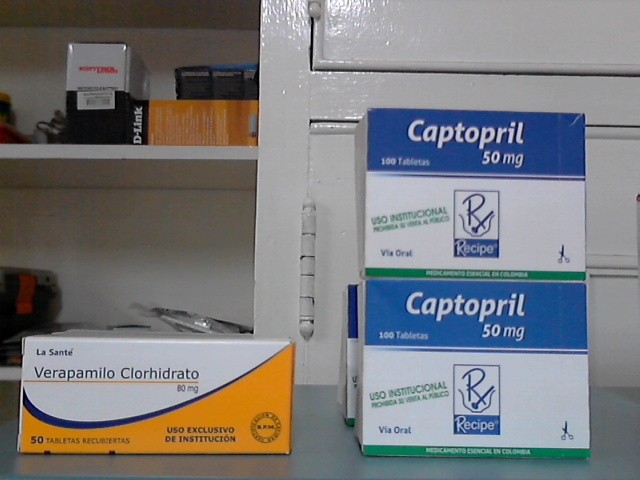LaSante: (25, 340, 291, 453)
